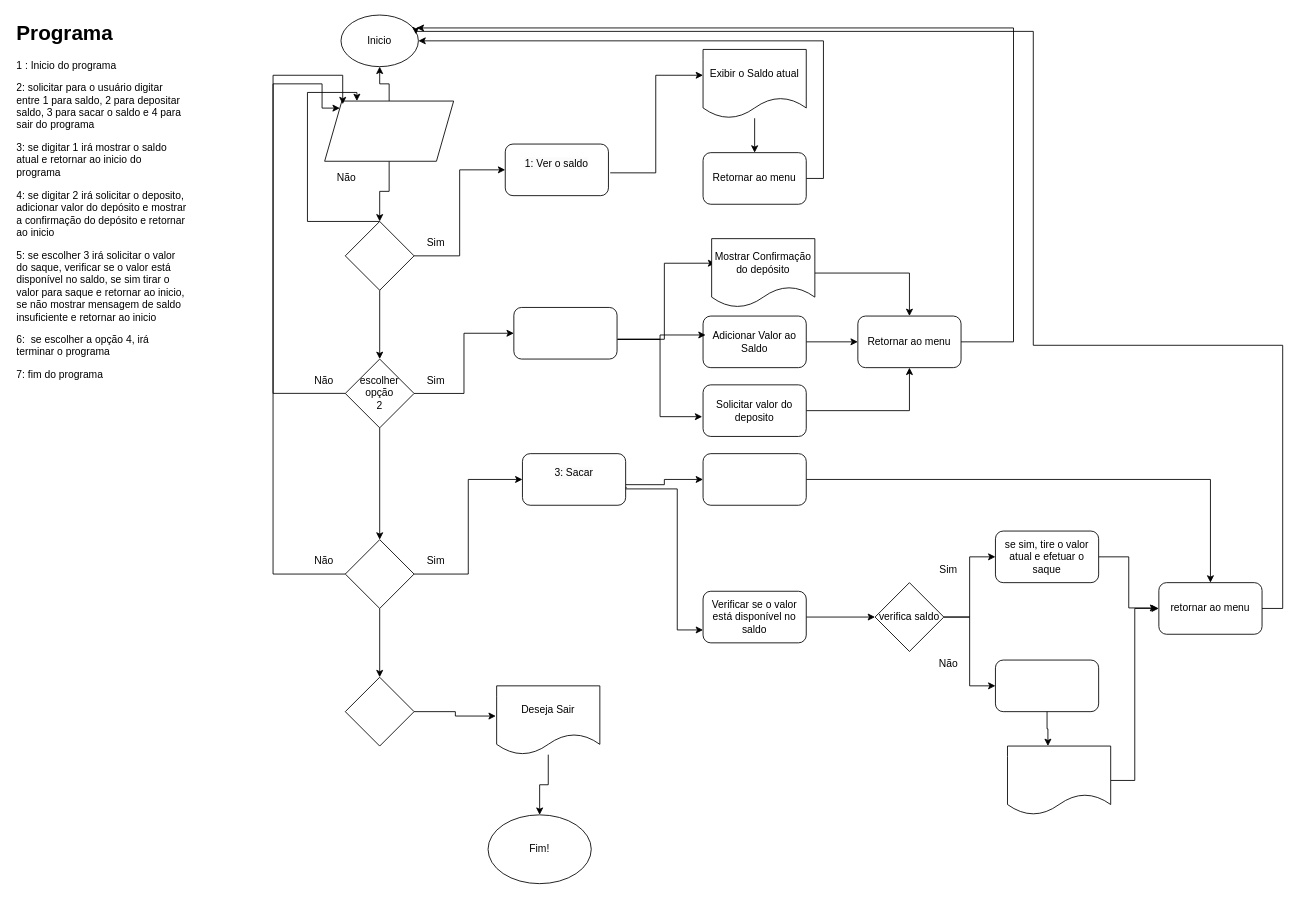
This 1305x899 diagram has some shape labels left out. The shapes that lost their labels are listed below. From the top down, each one's box as (x1, y1, x2, y2) in pixels, then its label:
(324, 100, 454, 161): Digite um numero 1: Ver o Saldo 2: Depositar Saldo 3: Sacar o Saldo 4: Sair
(344, 221, 414, 290): escolher opção 1
(513, 307, 617, 359): 2: Depositar
(702, 453, 806, 505): Solicitar valor do Saque
(344, 539, 414, 608): escolher opção 3
(995, 659, 1099, 712): Se não, mostrar mensagem de saldo insuficiente
(344, 676, 414, 746): escolher opção 4
(1007, 745, 1111, 815): Saldo insuficiente!
